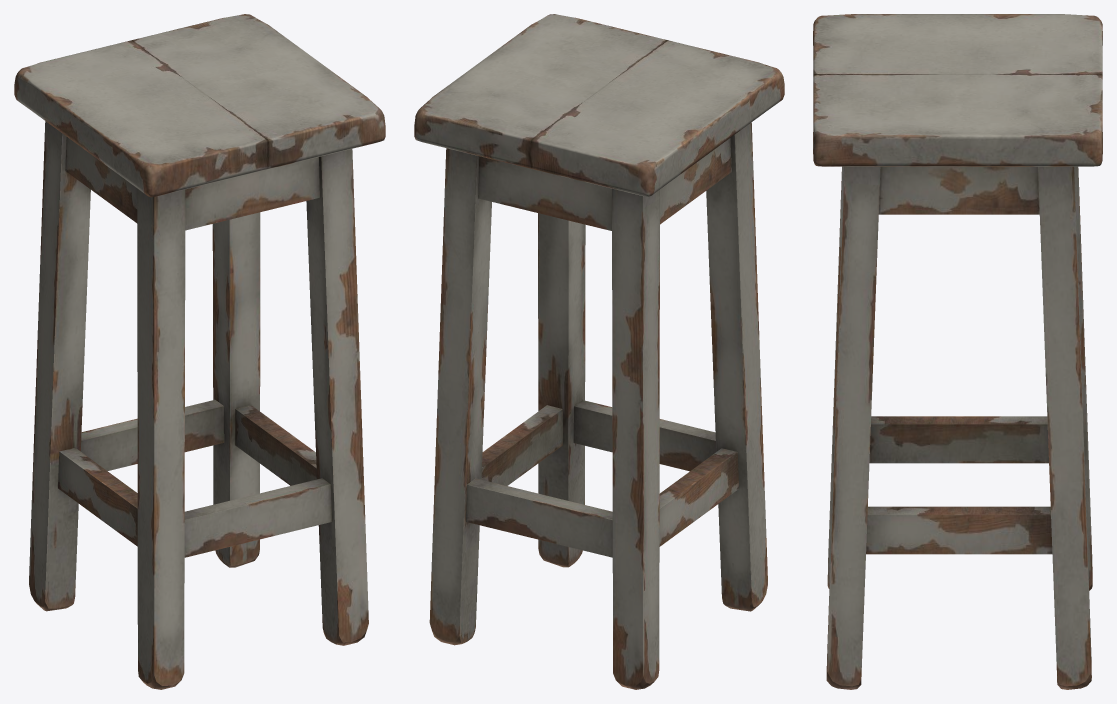
Rendered from clerk-stools.glb.
3 views of the same model, side by side, from view 1: azimuth 30°, elevation 25°; view 2: azimuth 150°, elevation 25°; view 3: azimuth 270°, elevation 25° (orthographic). The views are drawn at different scales.
Visible parts, largest first — view 1: clerk-stools; view 2: clerk-stools; view 3: clerk-stools.
Boxes of the visible parts, bbox=[...] form: clerk-stools: bbox=[14, 14, 385, 689]; clerk-stools: bbox=[414, 14, 784, 689]; clerk-stools: bbox=[813, 14, 1102, 689].
Size of the model in its own units: 0.35 by 0.75 by 0.35.
Materials: 1 (1 with a texture image).
